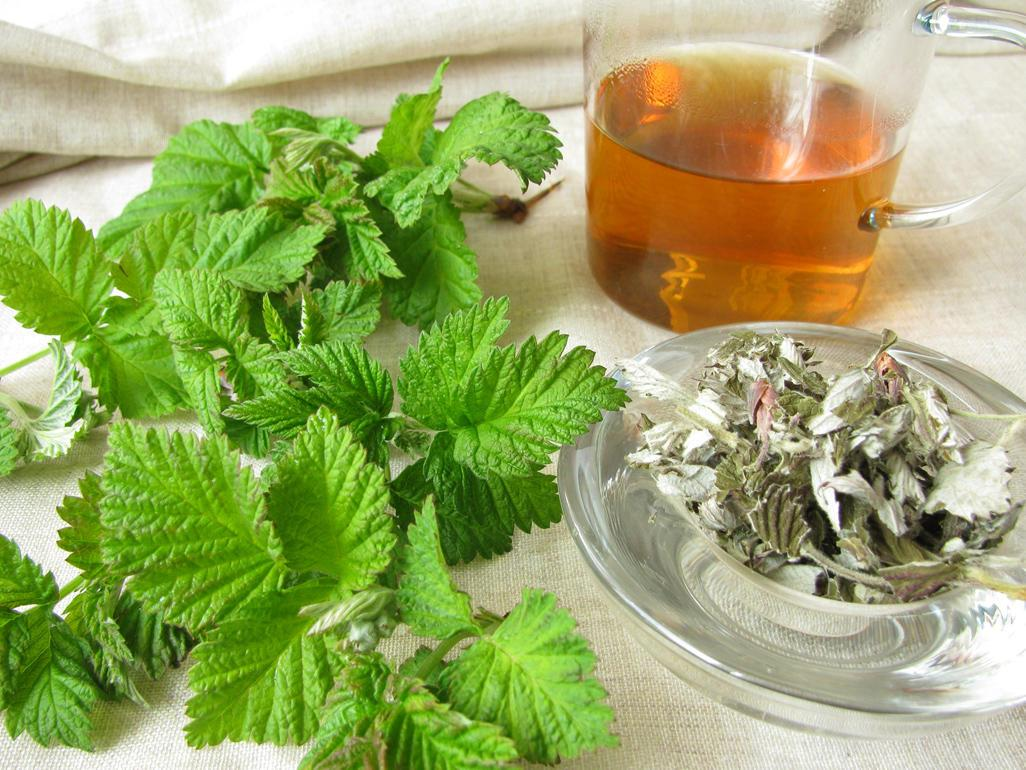Raspberry leaf: (108, 419, 310, 621), (446, 585, 619, 769), (176, 593, 367, 751), (447, 326, 629, 471), (272, 405, 392, 589), (1, 198, 118, 345), (398, 294, 510, 422), (74, 322, 204, 421), (106, 209, 198, 319)
